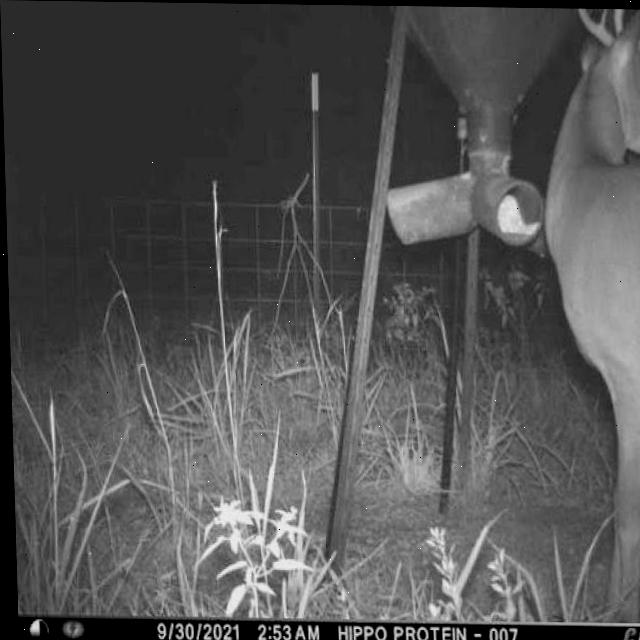Deer: (529, 8, 640, 625)
